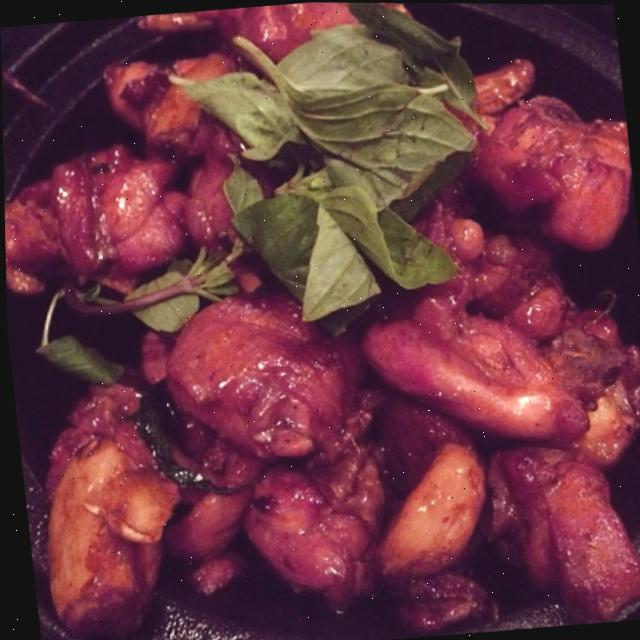鸡肉料理 含炸鸡: (5, 0, 640, 636)
